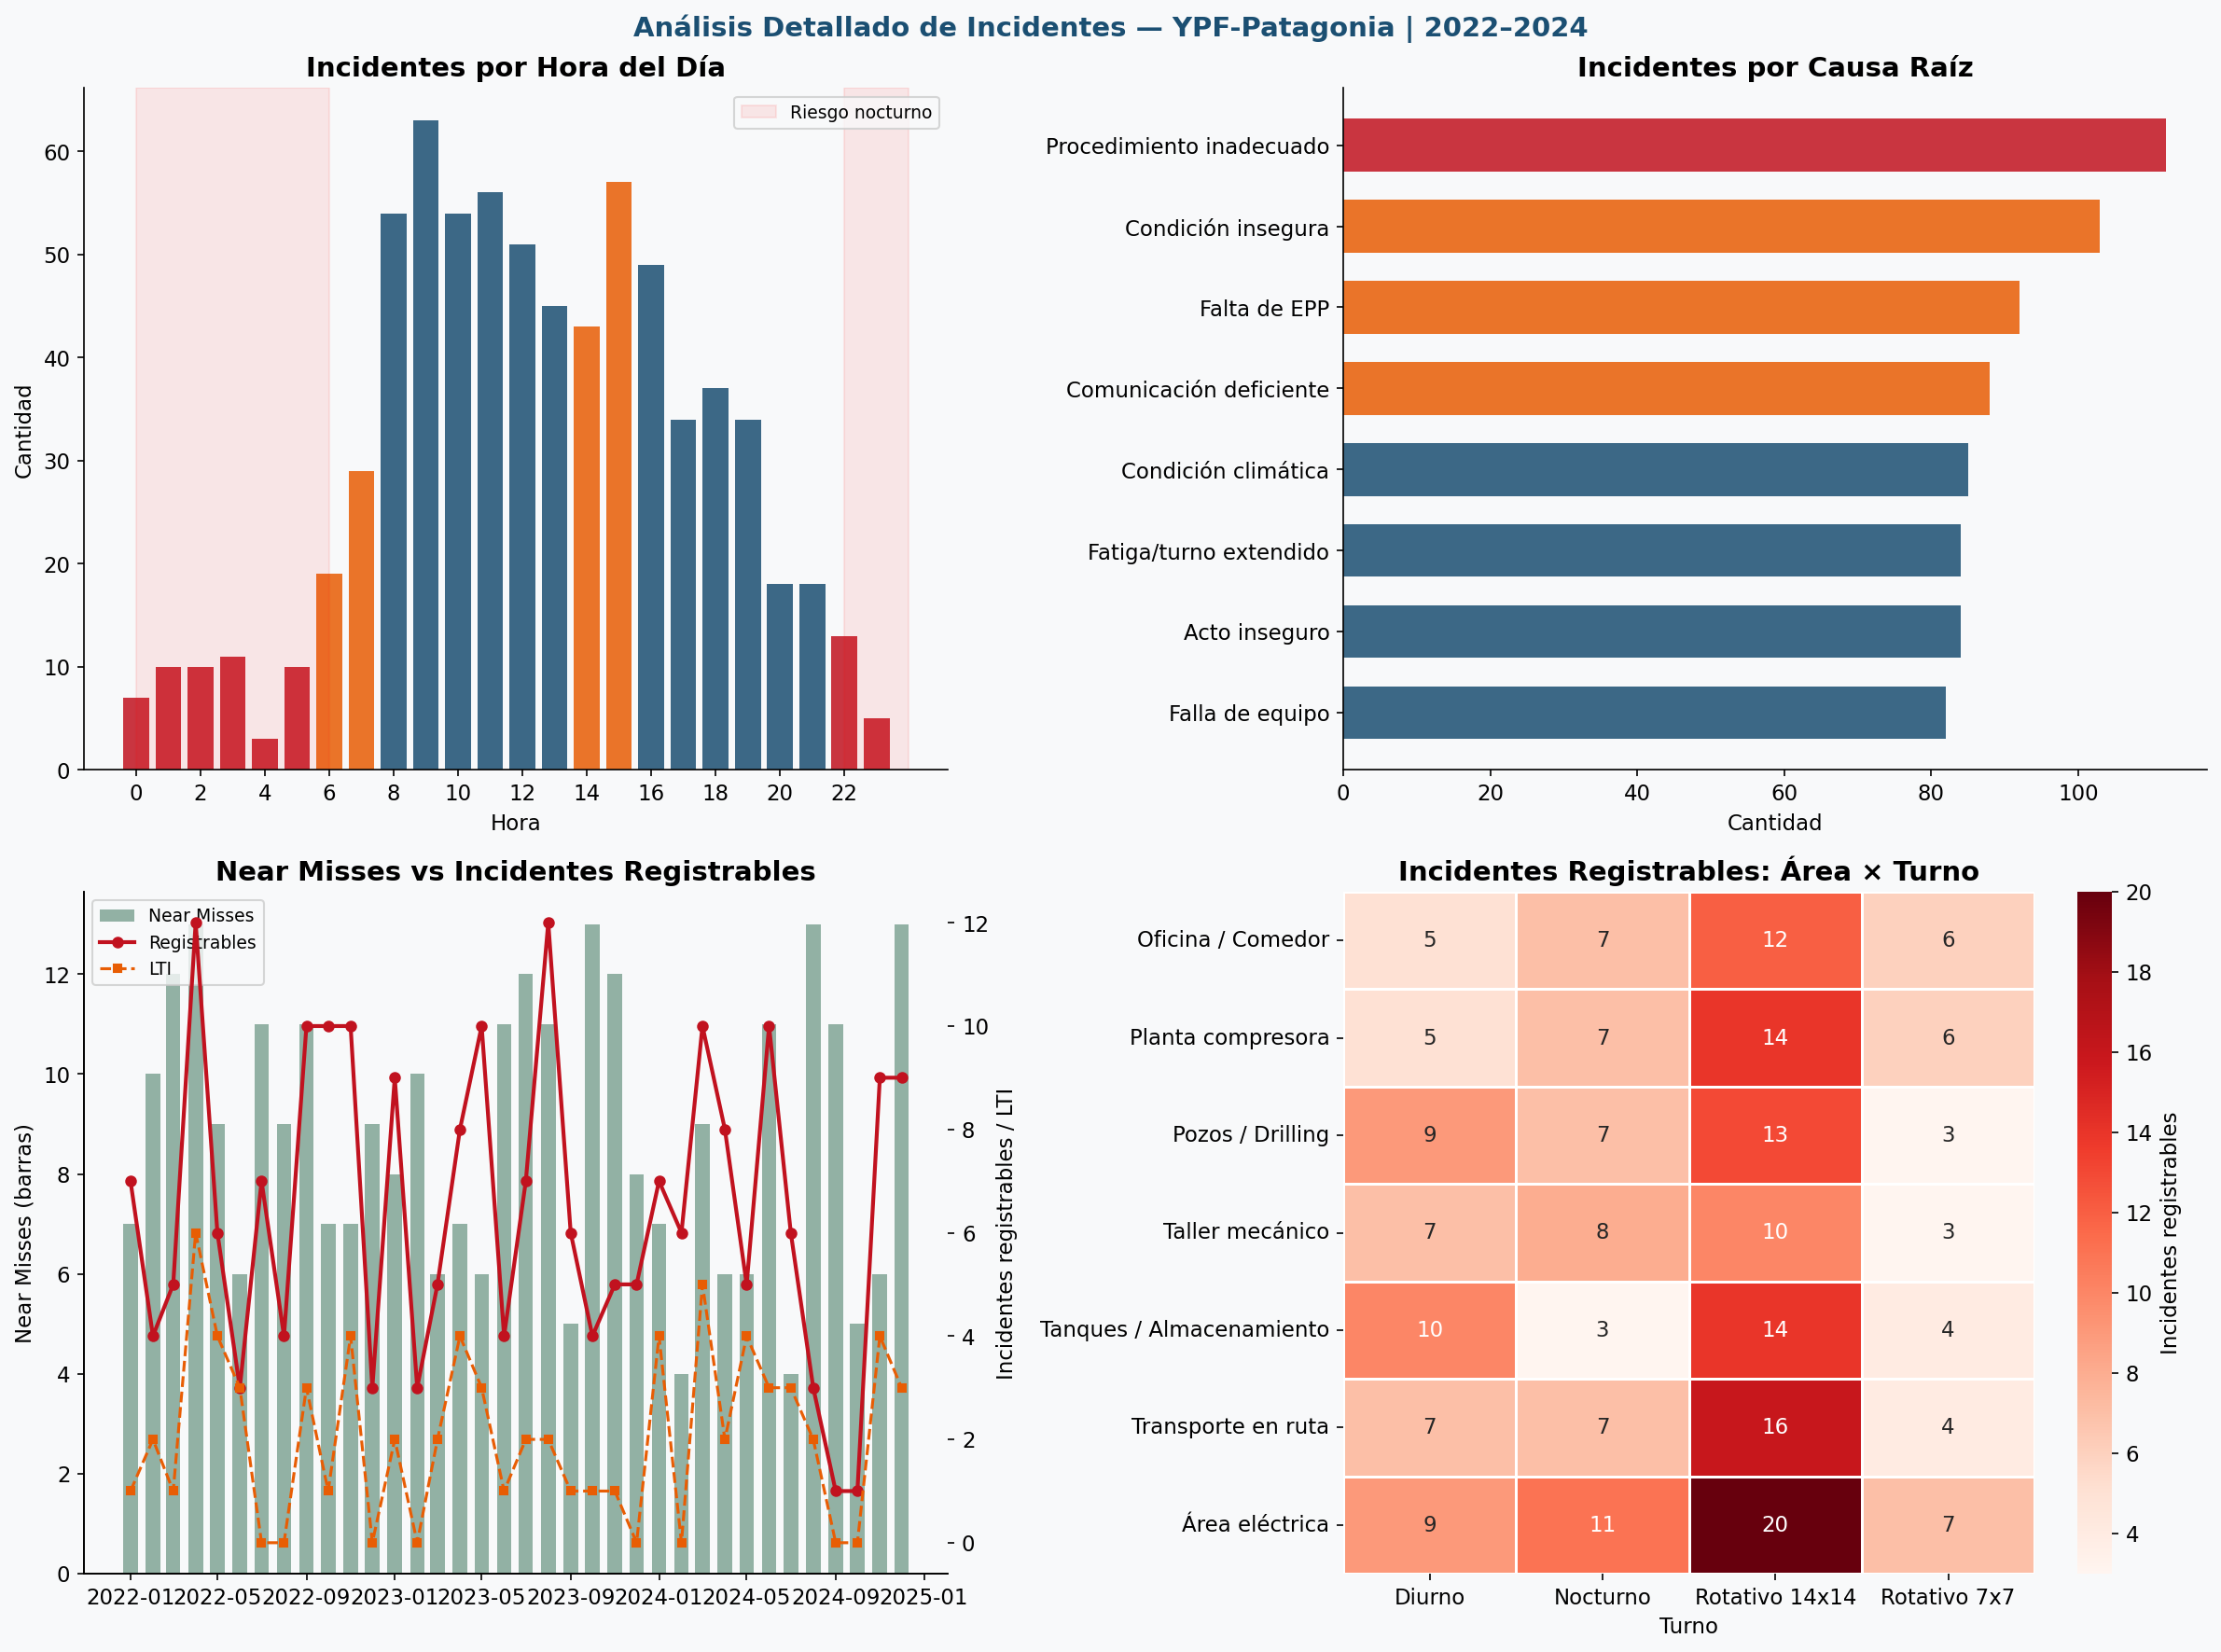

The dashboard page shown, as its layout file describes it:
{"tool":"powerbi","page":{"name":"Analisis de Incidentes","canvas":[1280,720],"ordinal":1},"visuals":[{"type":"unknown","box":[0,0,1280,50],"z":500},{"type":"unknown","box":[14,60,280,90],"z":2000},{"type":"unknown","box":[308,60,280,90],"z":2000},{"type":"unknown","box":[602,60,280,90],"z":2000},{"type":"unknown","box":[896,60,280,90],"z":2000},{"type":"unknown","box":[14,165,605,240],"z":2000},{"type":"unknown","box":[633,165,605,240],"z":2000},{"type":"unknown","box":[14,420,605,240],"z":2000},{"type":"unknown","box":[633,420,605,240],"z":2000}]}

Visuals, with their boxes on the page's 1280x720 design canvas (x1, y1, x2, y2). These are canvas units, not pixel positions in the 2221x1652 screenshot, which may show the page scaled, cropped or inside an application window:
unknown: [x1=0, y1=0, x2=1280, y2=50]
unknown: [x1=14, y1=60, x2=294, y2=150]
unknown: [x1=308, y1=60, x2=588, y2=150]
unknown: [x1=602, y1=60, x2=882, y2=150]
unknown: [x1=896, y1=60, x2=1176, y2=150]
unknown: [x1=14, y1=165, x2=619, y2=405]
unknown: [x1=633, y1=165, x2=1238, y2=405]
unknown: [x1=14, y1=420, x2=619, y2=660]
unknown: [x1=633, y1=420, x2=1238, y2=660]
